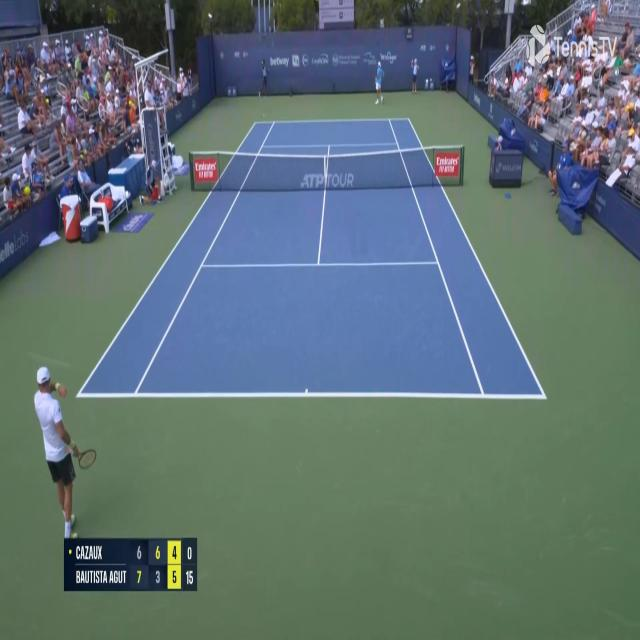tennis-player: (35, 360, 100, 544), (373, 58, 385, 106)
